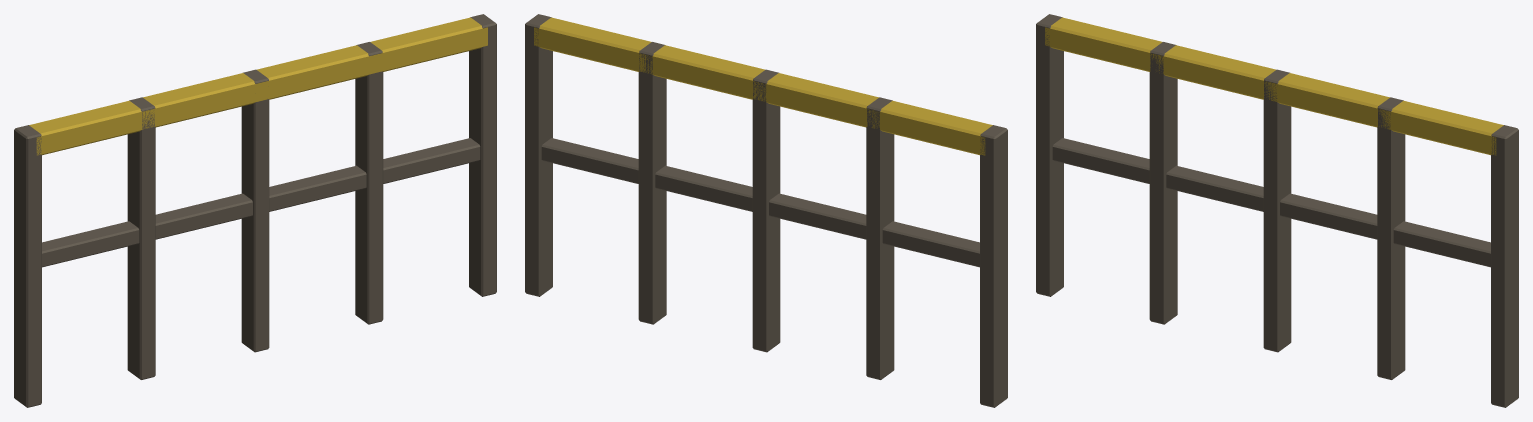
The model's file is MILL_RAIL_2M_LODs.fbx.
3 views of the same model, side by side, from view 1: azimuth 30°, elevation 25°; view 2: azimuth 150°, elevation 25°; view 3: azimuth 330°, elevation 25° (orthographic).
Visible parts, largest first — view 1: MILL_RAIL_2M_LOD0; view 2: MILL_RAIL_2M_LOD0; view 3: MILL_RAIL_2M_LOD0.
Boxes of the visible parts, x1,y1,x2,y2 form: MILL_RAIL_2M_LOD0: (14,14,496,407); MILL_RAIL_2M_LOD0: (525,14,1007,407); MILL_RAIL_2M_LOD0: (1036,14,1518,407).
Size of what is drawn, in the model's own units: 2 by 1.1 by 0.1.
